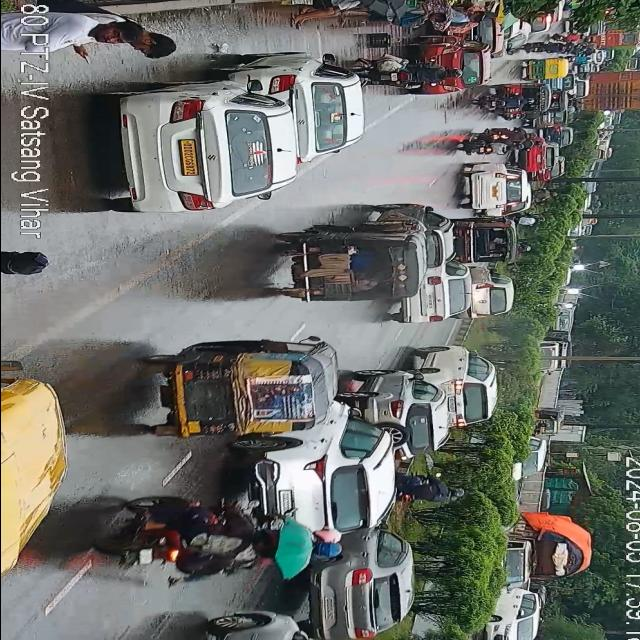2-wheelers: (121, 494, 273, 566), (392, 466, 476, 506), (373, 60, 458, 94), (474, 84, 539, 114), (470, 128, 532, 152), (456, 132, 511, 156), (518, 40, 569, 52), (570, 42, 600, 61), (500, 111, 550, 121), (536, 188, 560, 202), (516, 216, 548, 226), (551, 32, 583, 40), (514, 243, 532, 256)
auto: (147, 345, 333, 440), (0, 362, 74, 590), (276, 227, 414, 303), (458, 220, 512, 268), (468, 274, 511, 320), (537, 330, 569, 376), (522, 55, 568, 83), (547, 88, 569, 112)
car: (109, 60, 295, 214), (299, 401, 391, 547), (307, 529, 413, 640), (253, 58, 363, 160), (351, 350, 453, 438), (418, 346, 492, 428), (369, 203, 448, 275), (165, 612, 340, 640), (404, 261, 469, 328), (425, 40, 486, 96), (459, 163, 522, 217), (476, 592, 542, 640), (522, 140, 550, 172), (544, 129, 574, 149), (526, 115, 566, 128), (532, 170, 568, 182)
pedestrian: (41, 9, 129, 59), (294, 0, 372, 29), (0, 244, 48, 280), (126, 28, 176, 62), (425, 9, 483, 35), (349, 8, 446, 22)
truck: (494, 505, 586, 591), (581, 64, 640, 118)
